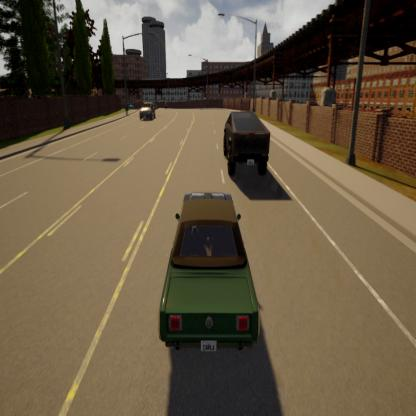Cars: (158, 191, 260, 353), (222, 109, 271, 178), (138, 98, 155, 122)
Pedestrian: (124, 102, 128, 119)
